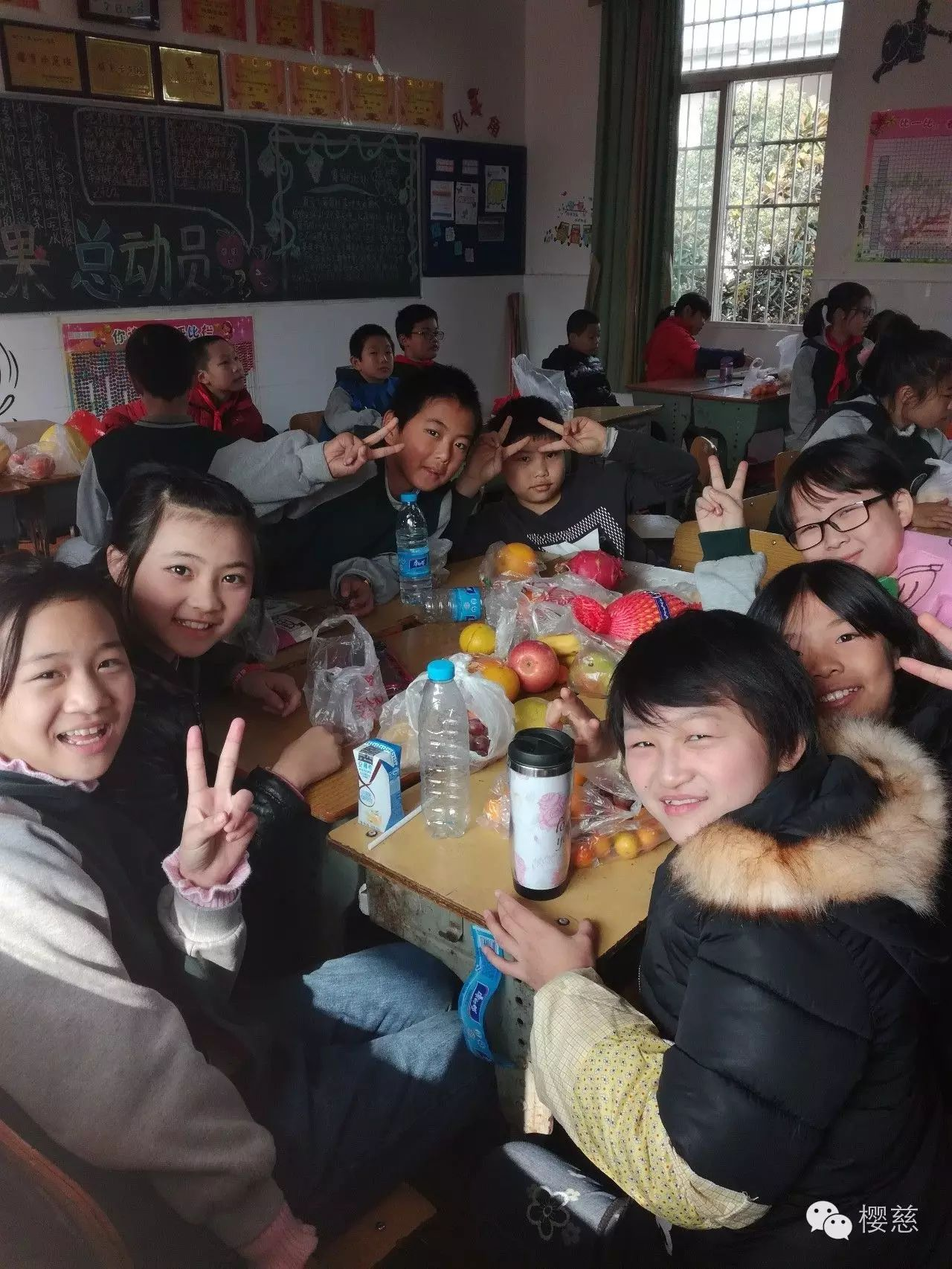other: (7, 550, 373, 1236), (221, 353, 481, 603), (694, 399, 949, 626), (461, 337, 683, 597)
